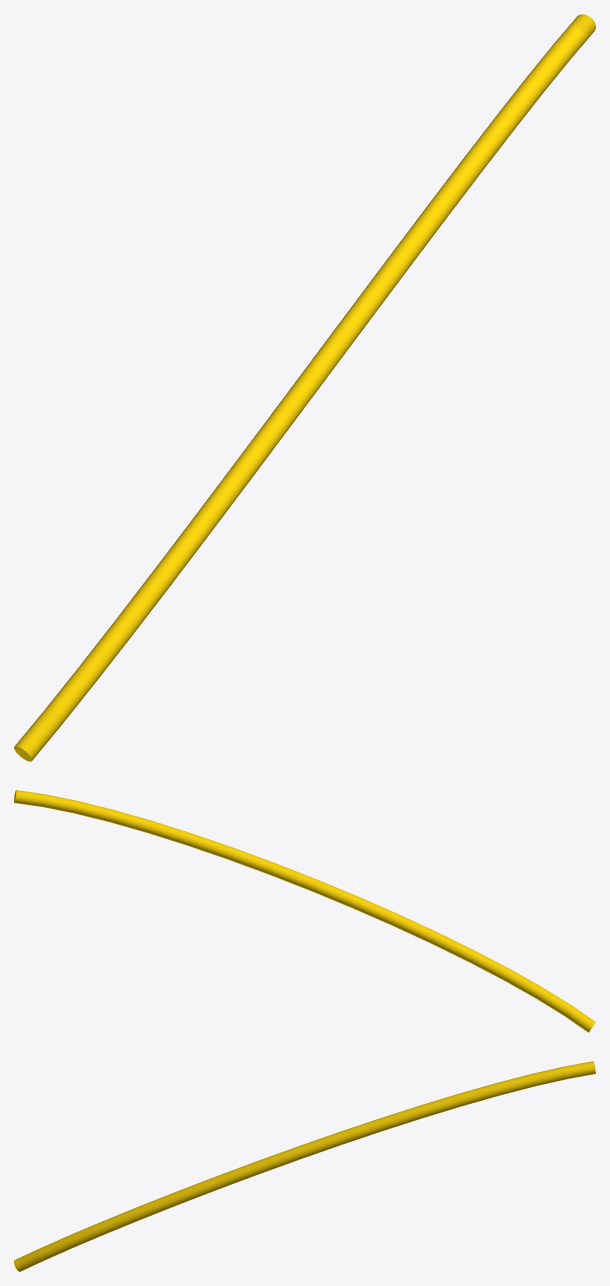
The model's file is Event_421115418_track_186.fbx.
3 views of the same model, one above another, from view 1: azimuth 30°, elevation 25°; view 2: azimuth 150°, elevation 25°; view 3: azimuth 330°, elevation 25° (orthographic). The views are drawn at different scales.
Parts seen in each view (by area): view 1: Model; view 2: Model; view 3: Model.
Part boxes in pixels (x1,y1,x2,y2): Model: (14,14,595,761); Model: (14,790,595,1032); Model: (14,1061,595,1271).
Size of the model in its own units: 1.61 by 0.7619 by 0.8177.
